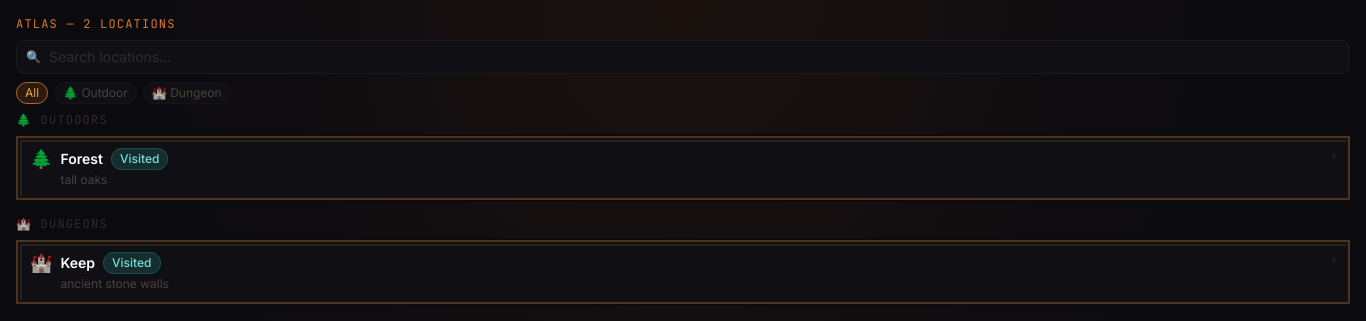
Test case: AtlasPanel — search › filters by description text
Type "ancient" into the search field at (683, 57), box [16, 40, 1350, 74]
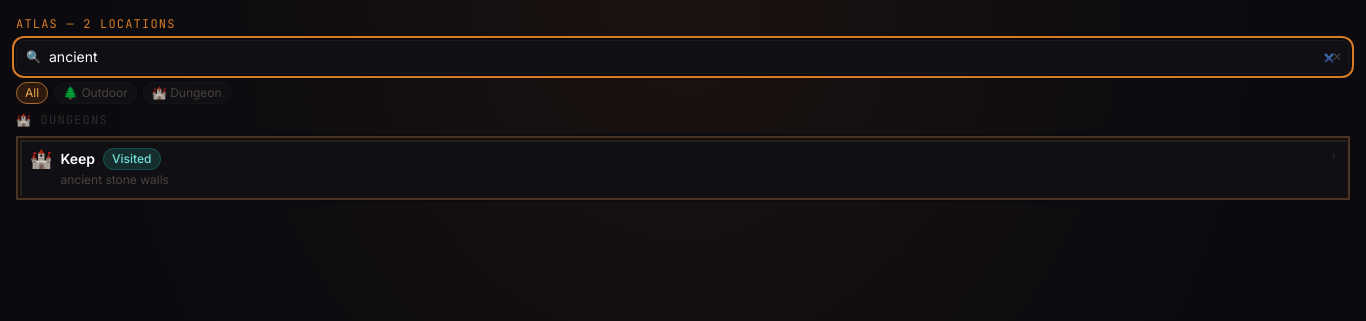
Expected: the text "Keep" is shown, [60, 149, 95, 169]
Now the button "Forest" is gone
